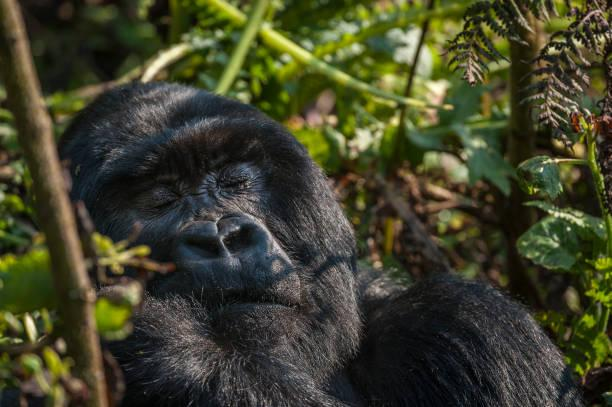goriile_montagne: (87, 85, 462, 405)
